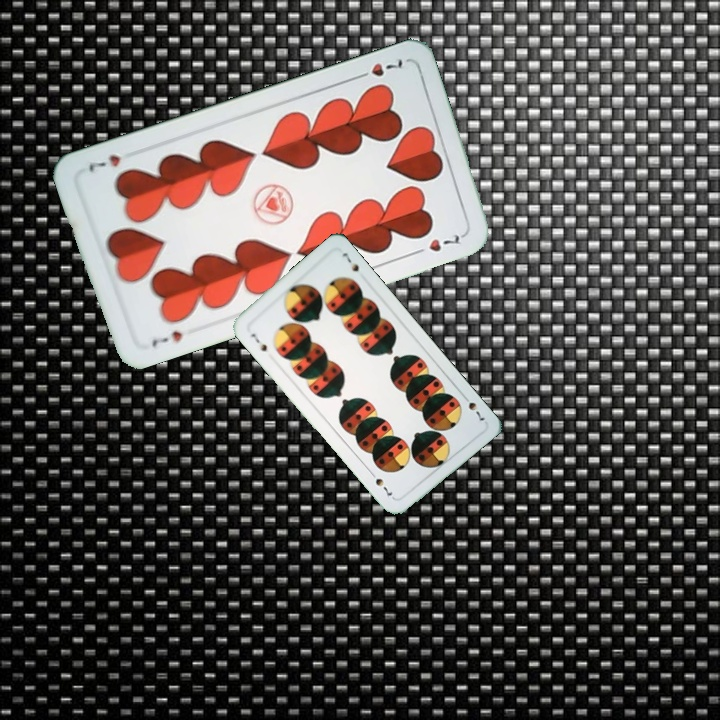H7: (351, 54, 408, 83), (147, 326, 185, 350)
S7: (458, 390, 487, 423), (246, 329, 270, 354)
